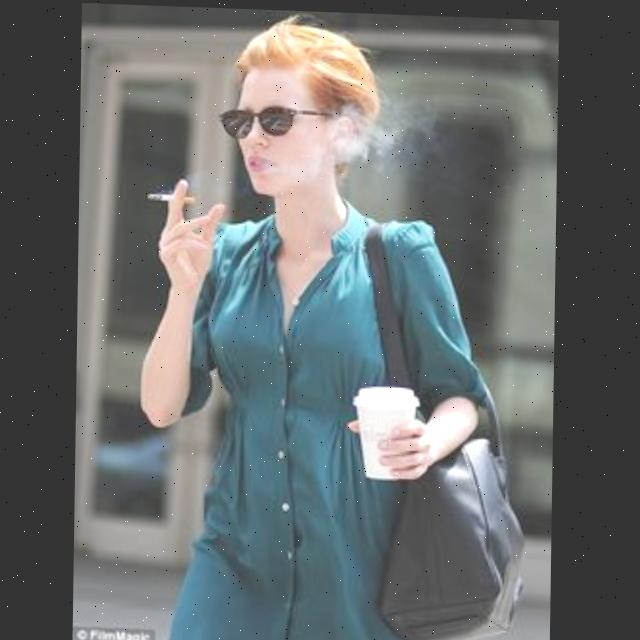cigarette: (147, 194, 196, 202)
